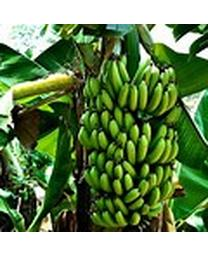banana: (77, 50, 180, 228)
